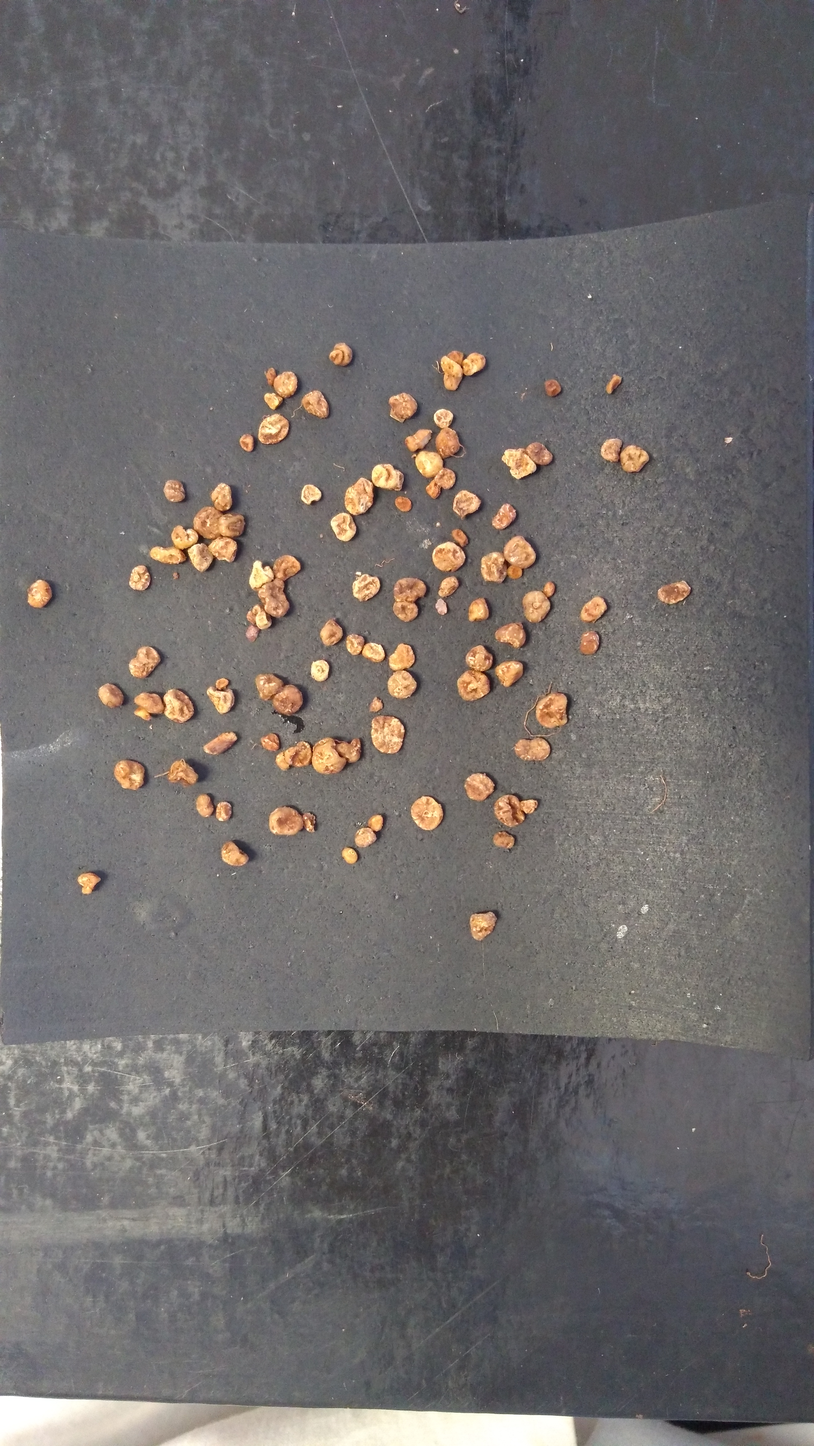nodule: (462, 901, 510, 945), (159, 685, 200, 730), (369, 713, 409, 757), (256, 575, 295, 620), (125, 642, 166, 683), (309, 734, 349, 776), (536, 690, 575, 732), (341, 475, 378, 519), (407, 793, 448, 832), (267, 800, 306, 840), (490, 789, 528, 829), (654, 577, 697, 612), (255, 411, 295, 448), (501, 534, 542, 570), (190, 504, 228, 542), (109, 758, 151, 792), (269, 682, 307, 719), (430, 539, 469, 575), (476, 549, 515, 585), (500, 446, 538, 482), (215, 836, 254, 871), (455, 668, 493, 703), (521, 587, 555, 626), (385, 667, 423, 701), (130, 688, 166, 723), (390, 575, 431, 605), (349, 572, 385, 606), (490, 620, 530, 650), (617, 442, 652, 476), (166, 759, 201, 793), (462, 770, 496, 805), (22, 578, 57, 612), (300, 388, 334, 422), (208, 533, 242, 567), (253, 671, 288, 704), (385, 391, 422, 422), (522, 440, 561, 469), (387, 641, 421, 674), (205, 685, 239, 718), (147, 542, 188, 569), (511, 735, 555, 760), (439, 355, 467, 394), (451, 488, 483, 522), (270, 552, 305, 583), (493, 658, 529, 688), (330, 511, 359, 548), (75, 868, 112, 897), (412, 449, 446, 480), (165, 521, 200, 550), (490, 501, 522, 532), (463, 642, 495, 673), (282, 738, 313, 770), (433, 427, 463, 460), (577, 594, 610, 624), (270, 367, 299, 401), (215, 511, 250, 539), (247, 558, 275, 593), (188, 539, 215, 575), (387, 598, 424, 624), (125, 562, 156, 593), (461, 349, 492, 379), (96, 681, 127, 711), (207, 479, 234, 512), (318, 616, 344, 650), (160, 477, 190, 506), (598, 435, 627, 465), (463, 597, 494, 624), (295, 480, 325, 507), (334, 737, 366, 762), (435, 573, 463, 601), (370, 463, 399, 490), (578, 626, 602, 658), (489, 829, 522, 852), (405, 428, 434, 453), (257, 730, 285, 755), (308, 658, 332, 687), (353, 824, 380, 849), (359, 640, 387, 664), (193, 790, 215, 819), (213, 799, 238, 824), (332, 342, 355, 369), (434, 467, 458, 491), (432, 407, 457, 430), (390, 494, 418, 514), (262, 389, 287, 411), (367, 812, 389, 837), (345, 632, 366, 657), (273, 750, 295, 773), (339, 845, 362, 867), (443, 347, 467, 368), (299, 809, 319, 834), (542, 377, 563, 400), (236, 431, 257, 453), (365, 695, 388, 715), (519, 797, 542, 817), (450, 524, 469, 548), (241, 623, 261, 645), (432, 595, 452, 617), (326, 348, 349, 366), (391, 467, 407, 492), (423, 479, 440, 502), (263, 365, 279, 389), (540, 579, 558, 600), (505, 563, 524, 582), (245, 602, 257, 625), (215, 676, 230, 691)
